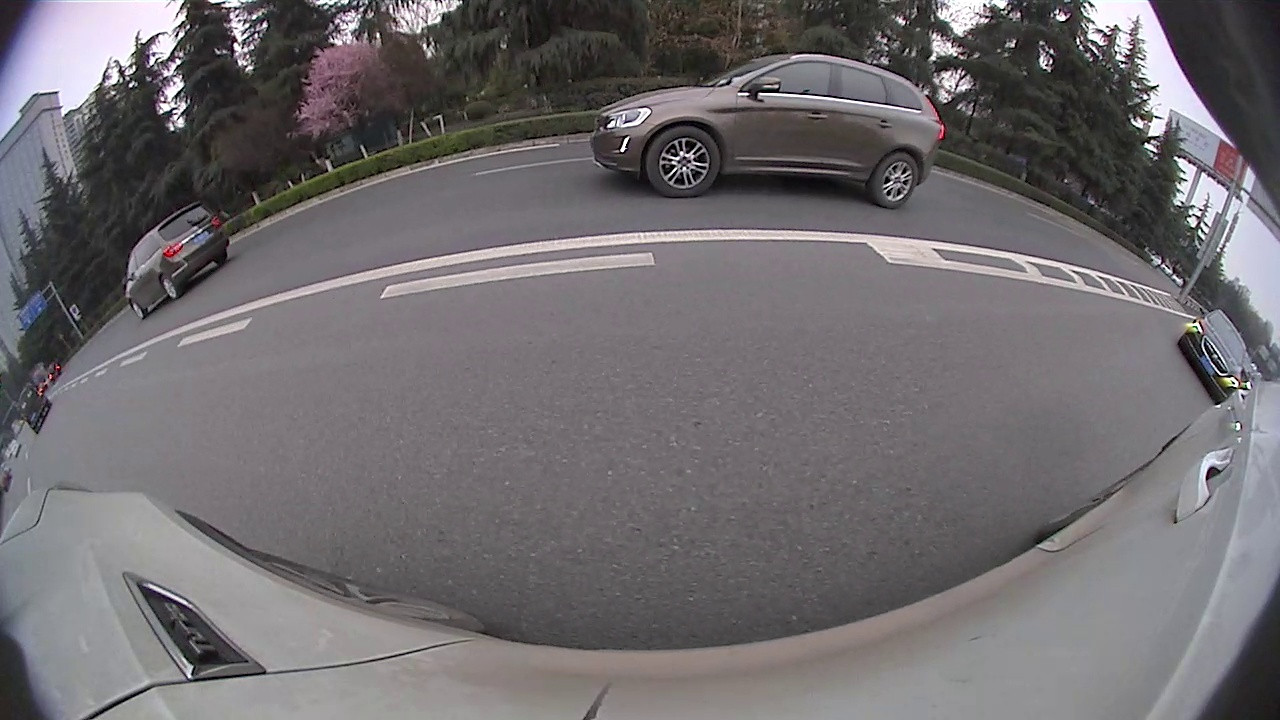car: (589, 53, 945, 211), (122, 197, 231, 322), (1174, 305, 1253, 405), (14, 382, 53, 436)
front: (647, 127, 719, 198), (129, 298, 144, 320)
rear: (876, 152, 919, 208), (159, 274, 179, 300)
